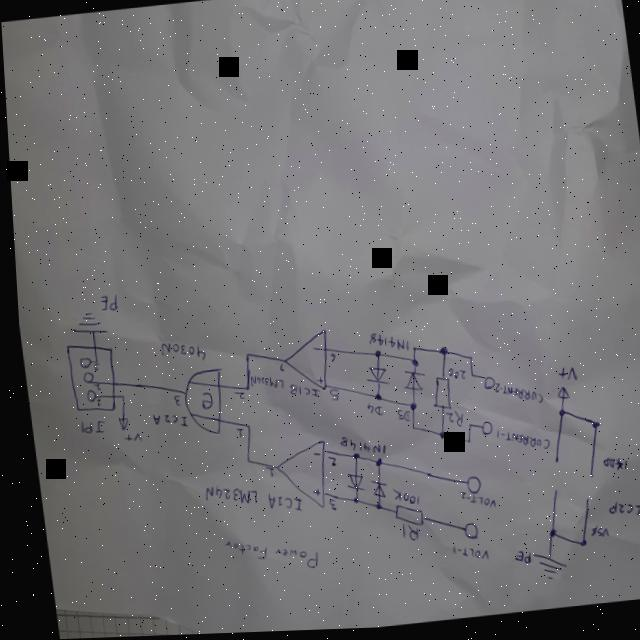diode: (360, 367, 385, 391), (397, 371, 421, 395), (338, 472, 359, 495), (362, 479, 382, 503)
ground: (64, 308, 106, 339), (525, 553, 562, 587)
junction: (585, 424, 596, 435), (552, 411, 562, 423), (540, 532, 550, 543), (368, 459, 378, 470), (403, 403, 413, 414), (571, 542, 581, 553), (435, 349, 444, 360), (368, 394, 377, 405), (405, 361, 415, 370), (369, 352, 378, 361), (433, 435, 442, 443), (346, 499, 354, 507), (240, 424, 247, 433), (369, 505, 376, 513), (240, 353, 247, 361), (461, 425, 468, 433), (114, 394, 121, 402), (407, 348, 413, 355), (348, 454, 354, 461), (240, 386, 245, 394), (240, 460, 246, 466), (461, 441, 466, 448), (465, 375, 470, 381), (464, 358, 468, 365), (406, 428, 410, 434)
resistor: (387, 503, 418, 532), (426, 377, 449, 415)
source: (111, 415, 125, 433), (550, 390, 565, 406)
terminal: (59, 338, 117, 416), (458, 477, 476, 500), (455, 524, 473, 545), (474, 422, 488, 441), (477, 379, 490, 394), (547, 494, 554, 502), (582, 477, 589, 484), (546, 462, 553, 469), (580, 502, 584, 510)
text: (217, 533, 313, 581), (484, 378, 540, 414), (488, 426, 545, 458), (197, 481, 254, 511), (332, 433, 381, 463), (154, 338, 202, 365), (362, 331, 406, 359), (258, 489, 299, 519), (444, 545, 483, 568), (600, 502, 638, 525), (244, 372, 280, 395), (454, 491, 490, 514), (146, 411, 184, 432), (385, 486, 414, 512), (283, 383, 316, 403), (73, 418, 102, 437), (595, 459, 622, 478), (95, 292, 117, 315), (551, 369, 573, 388), (440, 412, 460, 432), (506, 552, 526, 570), (394, 526, 412, 545), (359, 403, 379, 420), (583, 529, 604, 544), (442, 369, 462, 384), (117, 431, 138, 445), (258, 464, 270, 484), (391, 411, 405, 427), (323, 389, 336, 406), (307, 346, 319, 358), (228, 392, 241, 403), (322, 500, 331, 515), (322, 457, 332, 470), (323, 354, 333, 366), (230, 428, 239, 441), (305, 490, 316, 500), (168, 396, 177, 408), (273, 365, 282, 376), (306, 453, 316, 461), (311, 378, 318, 388)
